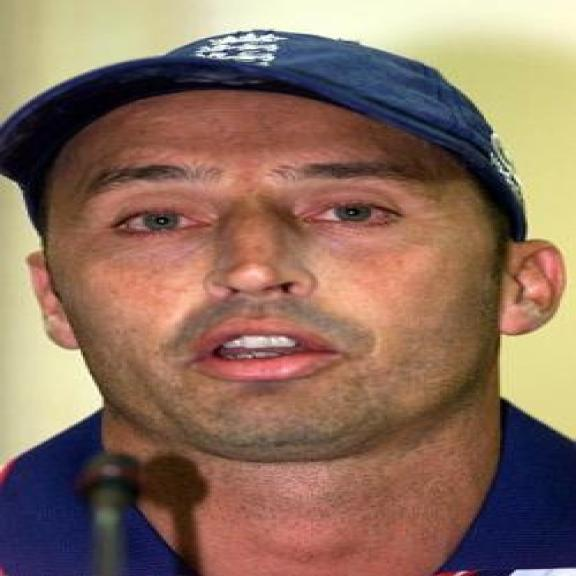face: (27, 97, 569, 460)
